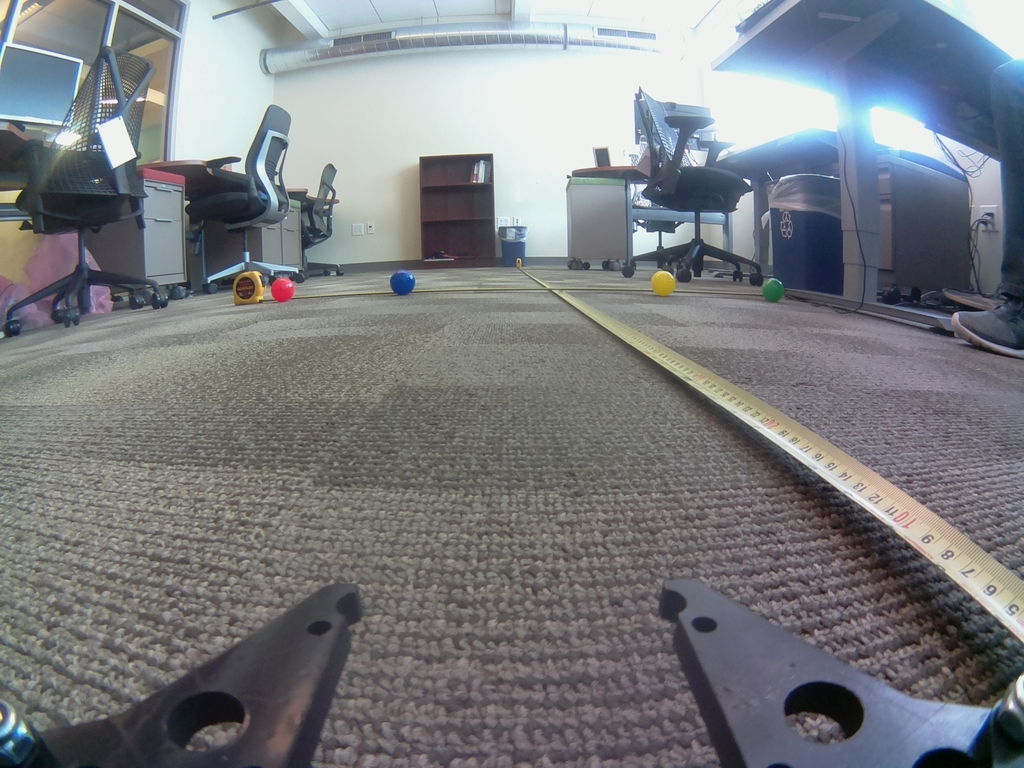ball: (270, 276, 297, 303)
